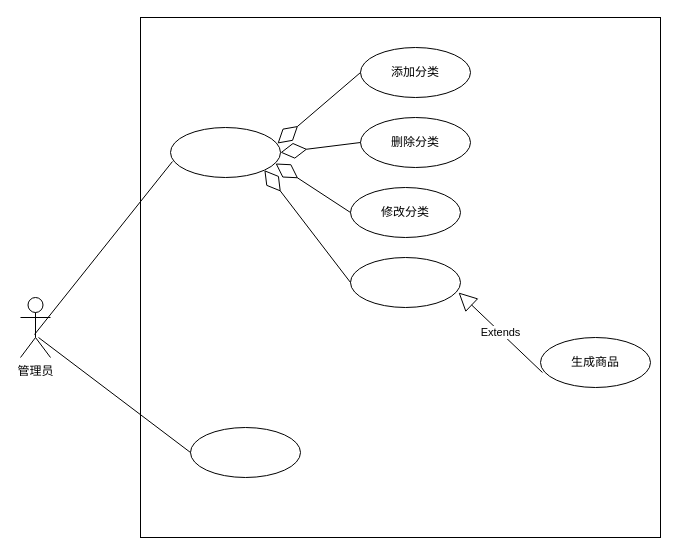
This 678x555 diagram has some shape labels left out. The centre of each missing label's shape, as x and y in pixels:
"查询分类" belongs at point (405, 282).
"查询订单" belongs at point (245, 452).
"维护分类" belongs at point (225, 152).
